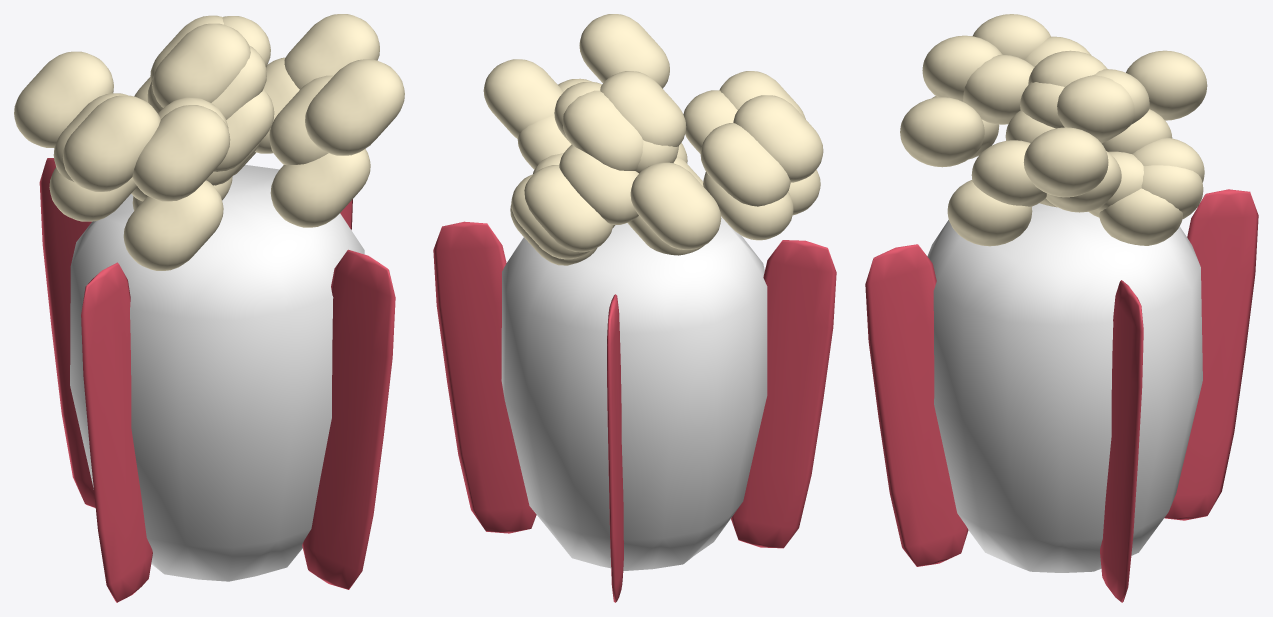
File: comida_palomitas.glb
3 views of the same model, side by side, from view 1: azimuth 30°, elevation 25°; view 2: azimuth 150°, elevation 25°; view 3: azimuth 270°, elevation 25° (orthographic). The views are drawn at different scales.
Parts seen in each view (by area): view 1: caja palomitas.001, raya palomitas 3.001, raya palomitas 2.001, palomita 25.001, raya palomitas 1.001, palomita 0.001, palomita 5.001, palomita 6.001, palomita 19.001, palomita 22.001, palomita 24.001, palomita 2.001 (+9 smaller); view 2: caja palomitas.001, raya palomitas 2.001, raya palomitas 0.001, palomita 19.001, palomita 14.001, palomita 5.001, palomita 23.001, palomita 25.001, palomita 1.001, palomita 2.001, raya palomitas 1.001, palomita 22.001 (+11 smaller); view 3: caja palomitas.001, raya palomitas 3.001, raya palomitas 1.001, raya palomitas 0.001, palomita 25.001, palomita 2.001, palomita 19.001, palomita 13.001, palomita 24.001, palomita 20.001, palomita 7.001, palomita 9.001 (+12 smaller).
Boxes of the visible parts, x1,y1,x2,y2 form: caja palomitas.001: (70, 165, 364, 581); raya palomitas 3.001: (302, 249, 395, 589); raya palomitas 2.001: (81, 262, 152, 602); palomita 25.001: (305, 59, 404, 155); raya palomitas 1.001: (39, 158, 95, 507); palomita 0.001: (132, 105, 230, 201); palomita 5.001: (63, 95, 160, 191); palomita 6.001: (123, 180, 223, 270); palomita 19.001: (14, 51, 113, 147); palomita 22.001: (152, 23, 250, 107); palomita 24.001: (270, 149, 370, 227); palomita 2.001: (284, 14, 379, 89); caja palomitas.001: (501, 216, 767, 570); raya palomitas 2.001: (731, 240, 836, 548); raya palomitas 0.001: (433, 221, 536, 533); palomita 19.001: (630, 162, 721, 249); palomita 14.001: (700, 123, 790, 206); palomita 5.001: (733, 95, 823, 182); palomita 23.001: (524, 165, 613, 252); palomita 25.001: (579, 14, 669, 88); palomita 1.001: (562, 90, 643, 170); palomita 2.001: (483, 59, 563, 138); raya palomitas 1.001: (607, 294, 623, 602); palomita 22.001: (600, 71, 686, 146); caja palomitas.001: (927, 203, 1202, 572); raya palomitas 3.001: (865, 244, 968, 566); raya palomitas 1.001: (1164, 189, 1258, 520); raya palomitas 0.001: (1100, 280, 1143, 602); palomita 25.001: (900, 97, 984, 167); palomita 2.001: (1023, 127, 1108, 197); palomita 19.001: (1126, 50, 1207, 120); palomita 13.001: (1057, 75, 1134, 143); palomita 24.001: (947, 180, 1032, 246); palomita 20.001: (963, 54, 1034, 124); palomita 7.001: (1099, 188, 1182, 245); palomita 9.001: (971, 140, 1046, 206).
Size of the model in its own units: 0.2312 by 0.3224 by 0.2312.
